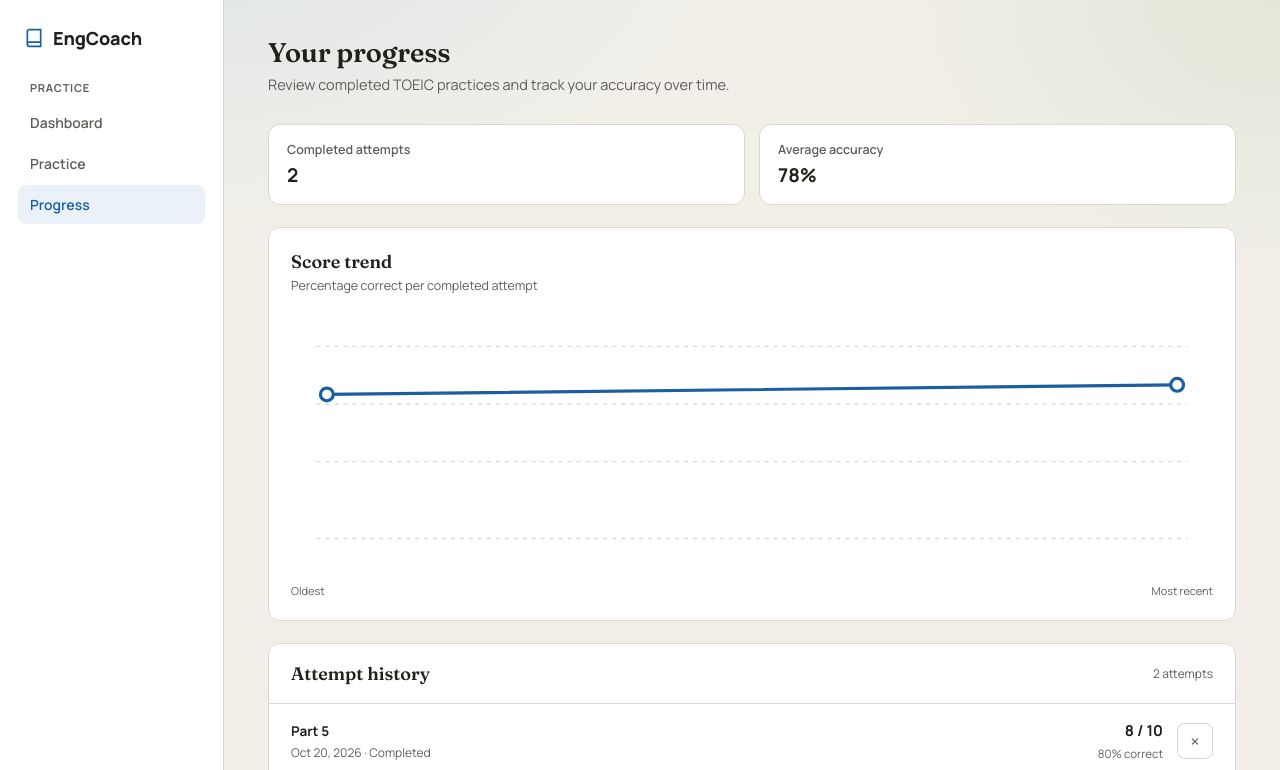
it: Progress screen (S10b) › deletes only after confirmation, then removes the row and updates the summary
Click the button named "Delete attempt: Part 5" at [1195, 741], box [1177,723,1213,759]
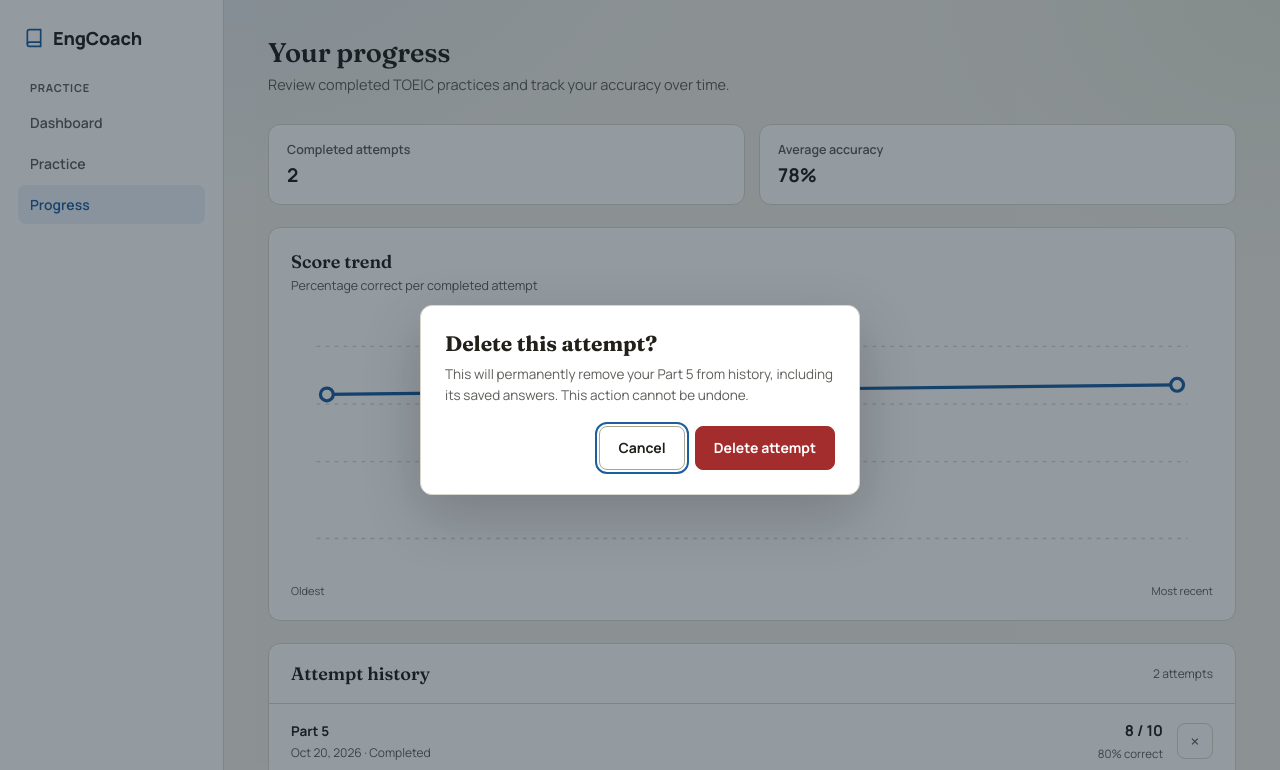
Result: the dialog "Delete this attempt?" is shown at [420,305,860,495]
Click the button "Delete attempt" at [765, 448], box [695,426,835,470]
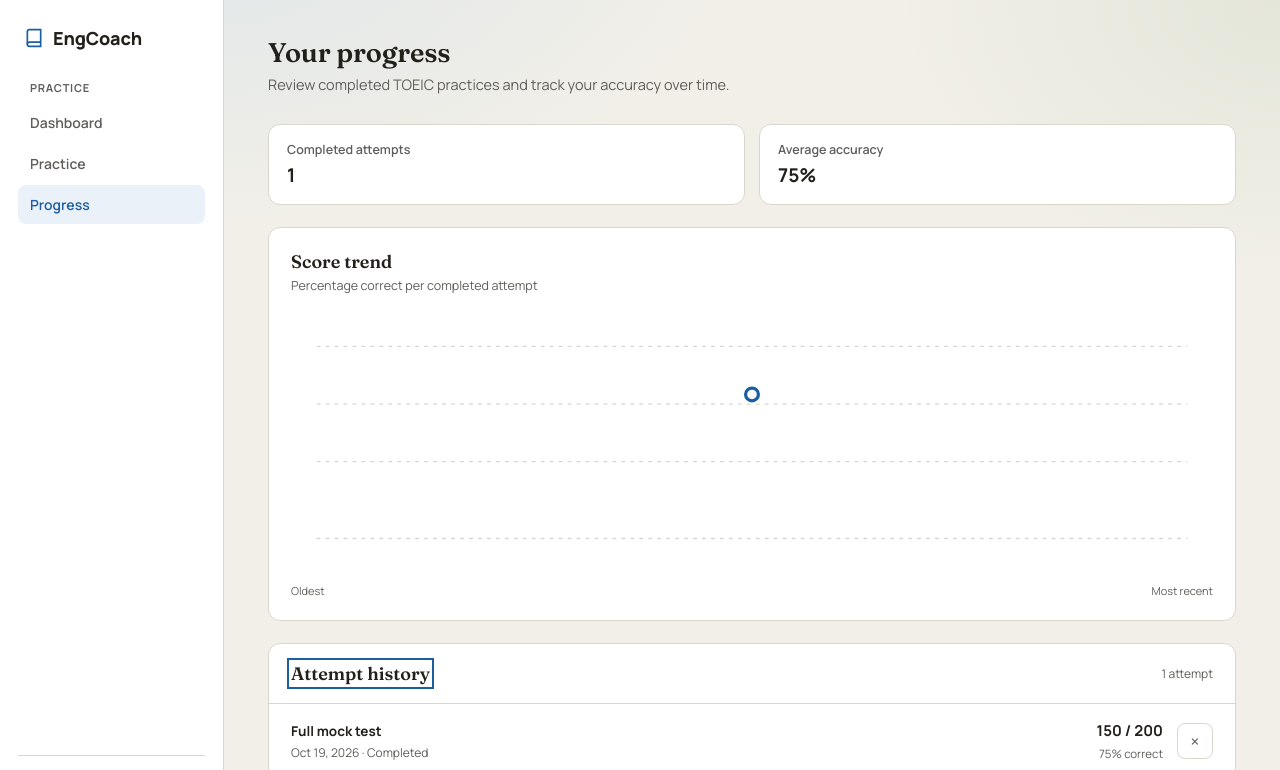
Expected: the text "Full mock test" is shown, [291,722,382,740]
Result: the text "1 attempt" is shown at [1161,665,1213,682]
